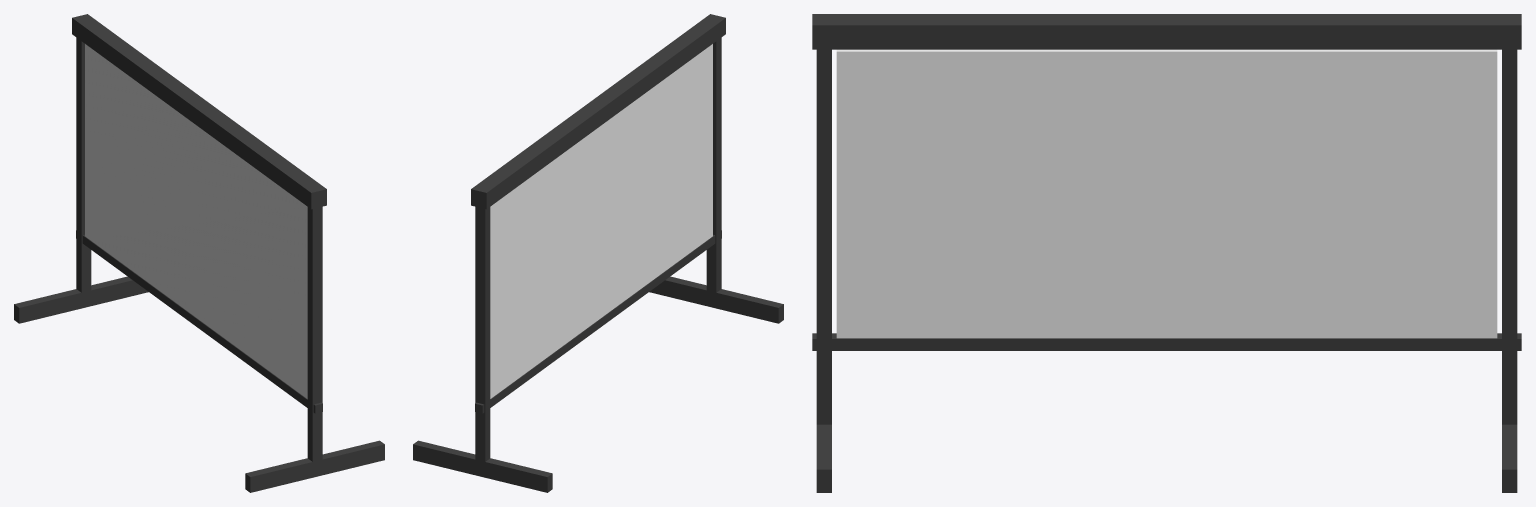
The model's file is billboard_03.fbx.
3 views of the same model, side by side, from view 1: azimuth 30°, elevation 25°; view 2: azimuth 150°, elevation 25°; view 3: azimuth 270°, elevation 25° (orthographic). The views are drawn at different scales.
Visible parts, largest first — view 1: billboard_03; view 2: billboard_03; view 3: billboard_03.
Boxes of the visible parts, x1,y1,x2,y2 form: billboard_03: (14,14,384,492); billboard_03: (413,14,783,492); billboard_03: (812,14,1521,492).
Size of the model in its own units: 198 by 403 by 611.
1 material, 1 textured.
